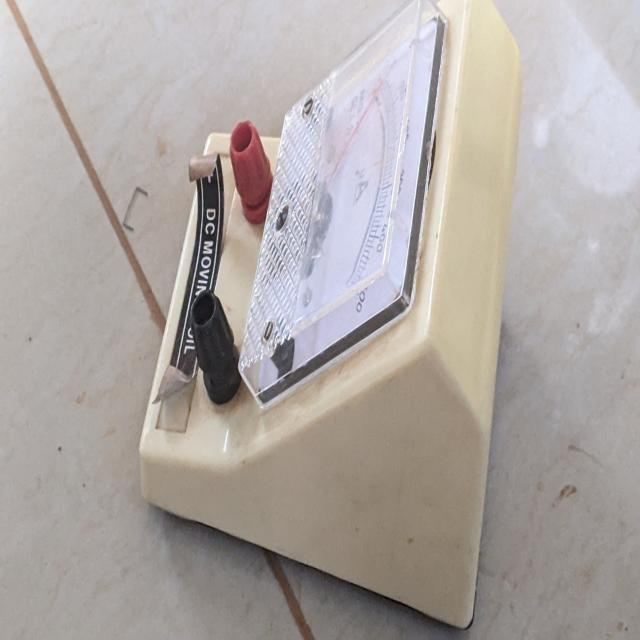Ammeter Analog: (136, 0, 532, 633)
